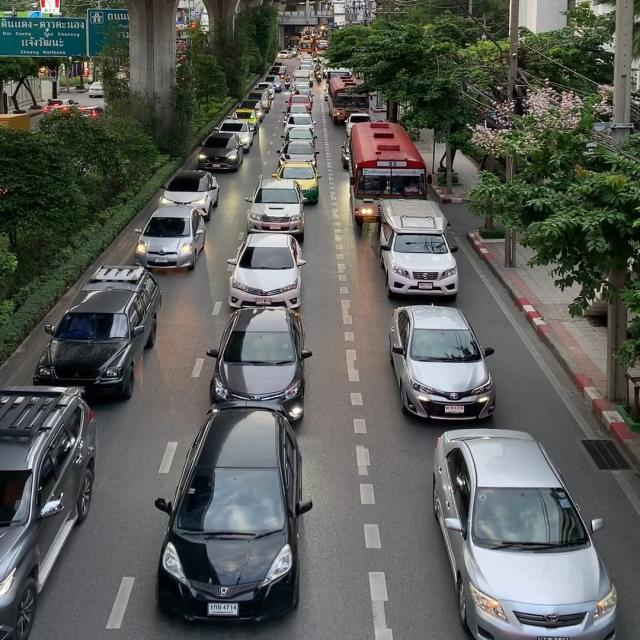Car: (424, 426, 620, 640), (157, 408, 311, 628), (30, 266, 167, 394), (380, 304, 499, 422), (206, 306, 322, 414), (374, 198, 466, 299), (346, 121, 428, 216), (224, 238, 307, 308), (134, 206, 208, 271), (244, 180, 306, 232), (157, 168, 225, 212)
